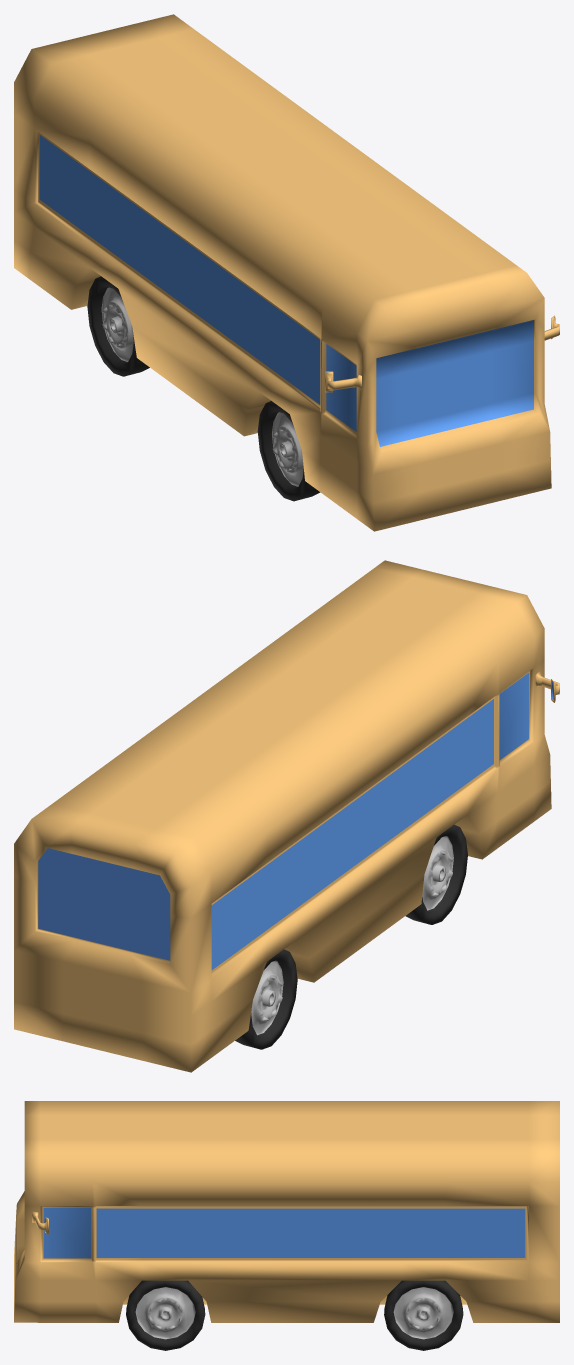
Rendered from GAMEJAMHERO - Prop(Bus).fbx.
3 renders of one model, top to bottom at view 1: azimuth 30°, elevation 25°; view 2: azimuth 150°, elevation 25°; view 3: azimuth 270°, elevation 25°, orthographic. The views are drawn at different scales.
Parts seen in each view (by area): view 1: Cube.020; view 2: Cube.020; view 3: Cube.020.
Part boxes in pixels (bbox=[...]): Cube.020: bbox=[14, 14, 559, 531]; Cube.020: bbox=[14, 560, 559, 1072]; Cube.020: bbox=[14, 1101, 559, 1350].
Size of the model in its own units: 523 by 553 by 1408.
1 material, 1 textured.
